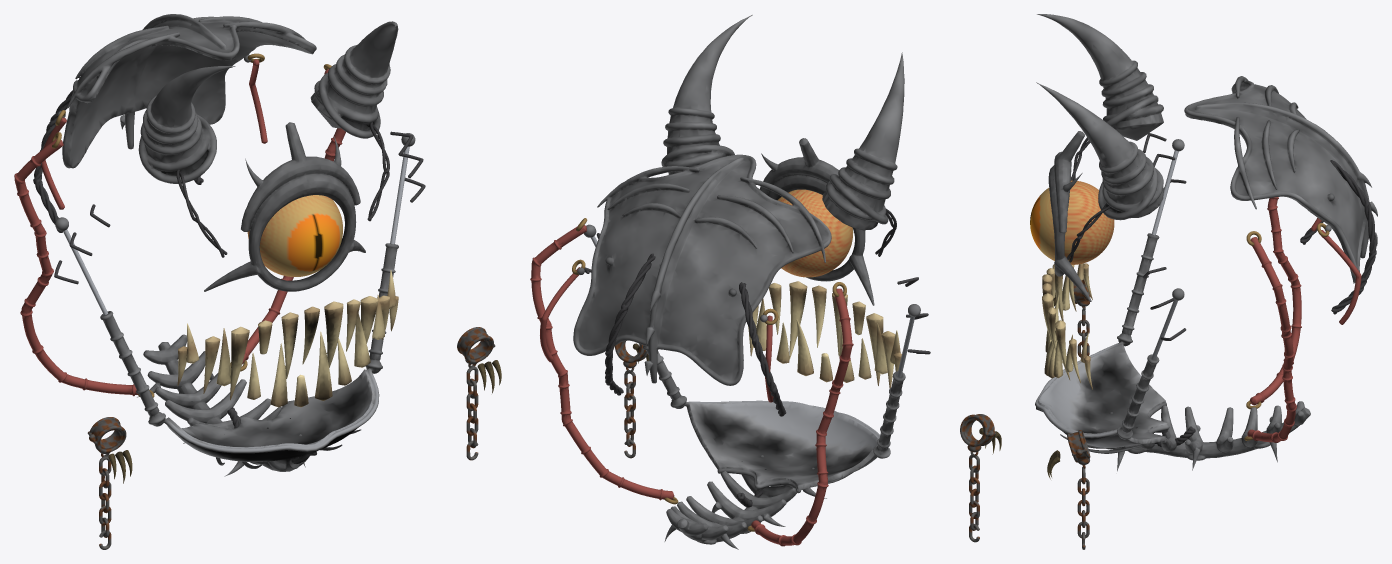
Rendered from teratoma-parts.glb.
3 renders of one model, left to right at view 1: azimuth 30°, elevation 25°; view 2: azimuth 150°, elevation 25°; view 3: azimuth 270°, elevation 25°, orthographic. The views are drawn at different scales.
Visible parts, largest first — view 1: pelvis|cap, pelvis|jaw, pelvis|teeth, pelvis|orbit, pelvis|hoses, pelvis|eye, pelvis|keel, pelvis|cables, pelvis|rods, foreArm.l|shackle, foreArm.r|shackle, foreArm.l|chain (+1 smaller); view 2: pelvis|cap, pelvis|jaw, pelvis|hoses, pelvis|teeth, pelvis|keel, pelvis|orbit, pelvis|cables, pelvis|eye, foreArm.r|shackle, foreArm.l|chain, foreArm.r|chain, pelvis|ferrules; view 3: pelvis|cap, pelvis|jaw, pelvis|hoses, pelvis|keel, pelvis|eye, pelvis|teeth, pelvis|cables, pelvis|orbit, pelvis|rods, foreArm.l|chain, foreArm.l|shackle.
Part boxes in pixels (left/top/right/bottom): pelvis|cap: left=57, top=14, right=398, bottom=183; pelvis|jaw: left=55, top=133, right=415, bottom=468; pelvis|teeth: left=177, top=270, right=398, bottom=407; pelvis|orbit: left=204, top=122, right=365, bottom=291; pelvis|hoses: left=14, top=59, right=345, bottom=396; pelvis|eye: left=247, top=195, right=342, bottom=276; pelvis|keel: left=137, top=334, right=309, bottom=476; pelvis|cables: left=33, top=90, right=425, bottom=428; pelvis|rods: left=63, top=146, right=409, bottom=315; foreArm.l|shackle: left=457, top=327, right=495, bottom=364; foreArm.r|shackle: left=87, top=417, right=126, bottom=454; foreArm.l|chain: left=466, top=363, right=478, bottom=460; pelvis|cap: left=573, top=15, right=904, bottom=385; pelvis|jaw: left=583, top=224, right=920, bottom=493; pelvis|hoses: left=530, top=225, right=853, bottom=546; pelvis|teeth: left=748, top=281, right=901, bottom=388; pelvis|keel: left=664, top=455, right=826, bottom=549; pelvis|orbit: left=759, top=138, right=874, bottom=305; pelvis|cables: left=584, top=208, right=930, bottom=507; pelvis|eye: left=777, top=189, right=853, bottom=277; foreArm.r|shackle: left=960, top=414, right=995, bottom=452; foreArm.l|chain: left=624, top=367, right=635, bottom=458; foreArm.r|chain: left=969, top=452, right=979, bottom=542; pelvis|ferrules: left=572, top=218, right=846, bottom=531; pelvis|cap: left=1036, top=14, right=1377, bottom=283; pelvis|jaw: left=1035, top=139, right=1184, bottom=453; pelvis|hoses: left=1247, top=197, right=1361, bottom=442; pelvis|keel: left=1106, top=401, right=1310, bottom=471; pelvis|eye: left=1030, top=180, right=1114, bottom=264; pelvis|teeth: left=1042, top=263, right=1092, bottom=389; pelvis|cables: left=1067, top=133, right=1376, bottom=446; pelvis|orbit: left=1048, top=131, right=1091, bottom=301; pelvis|rods: left=1151, top=150, right=1178, bottom=359; foreArm.l|chain: left=1077, top=465, right=1089, bottom=549; foreArm.l|shackle: left=1067, top=430, right=1090, bottom=464.
Bounding box in the file's own units: 1.32 × 1.49 × 1.11.
